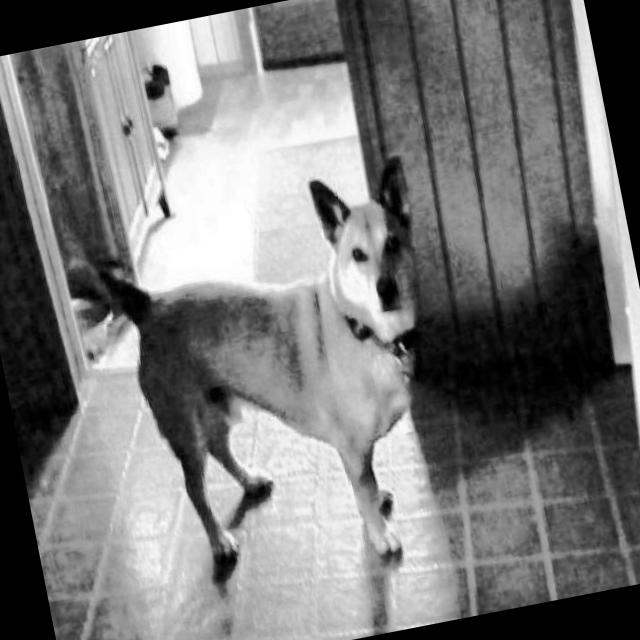Dog: (41, 142, 487, 616)
